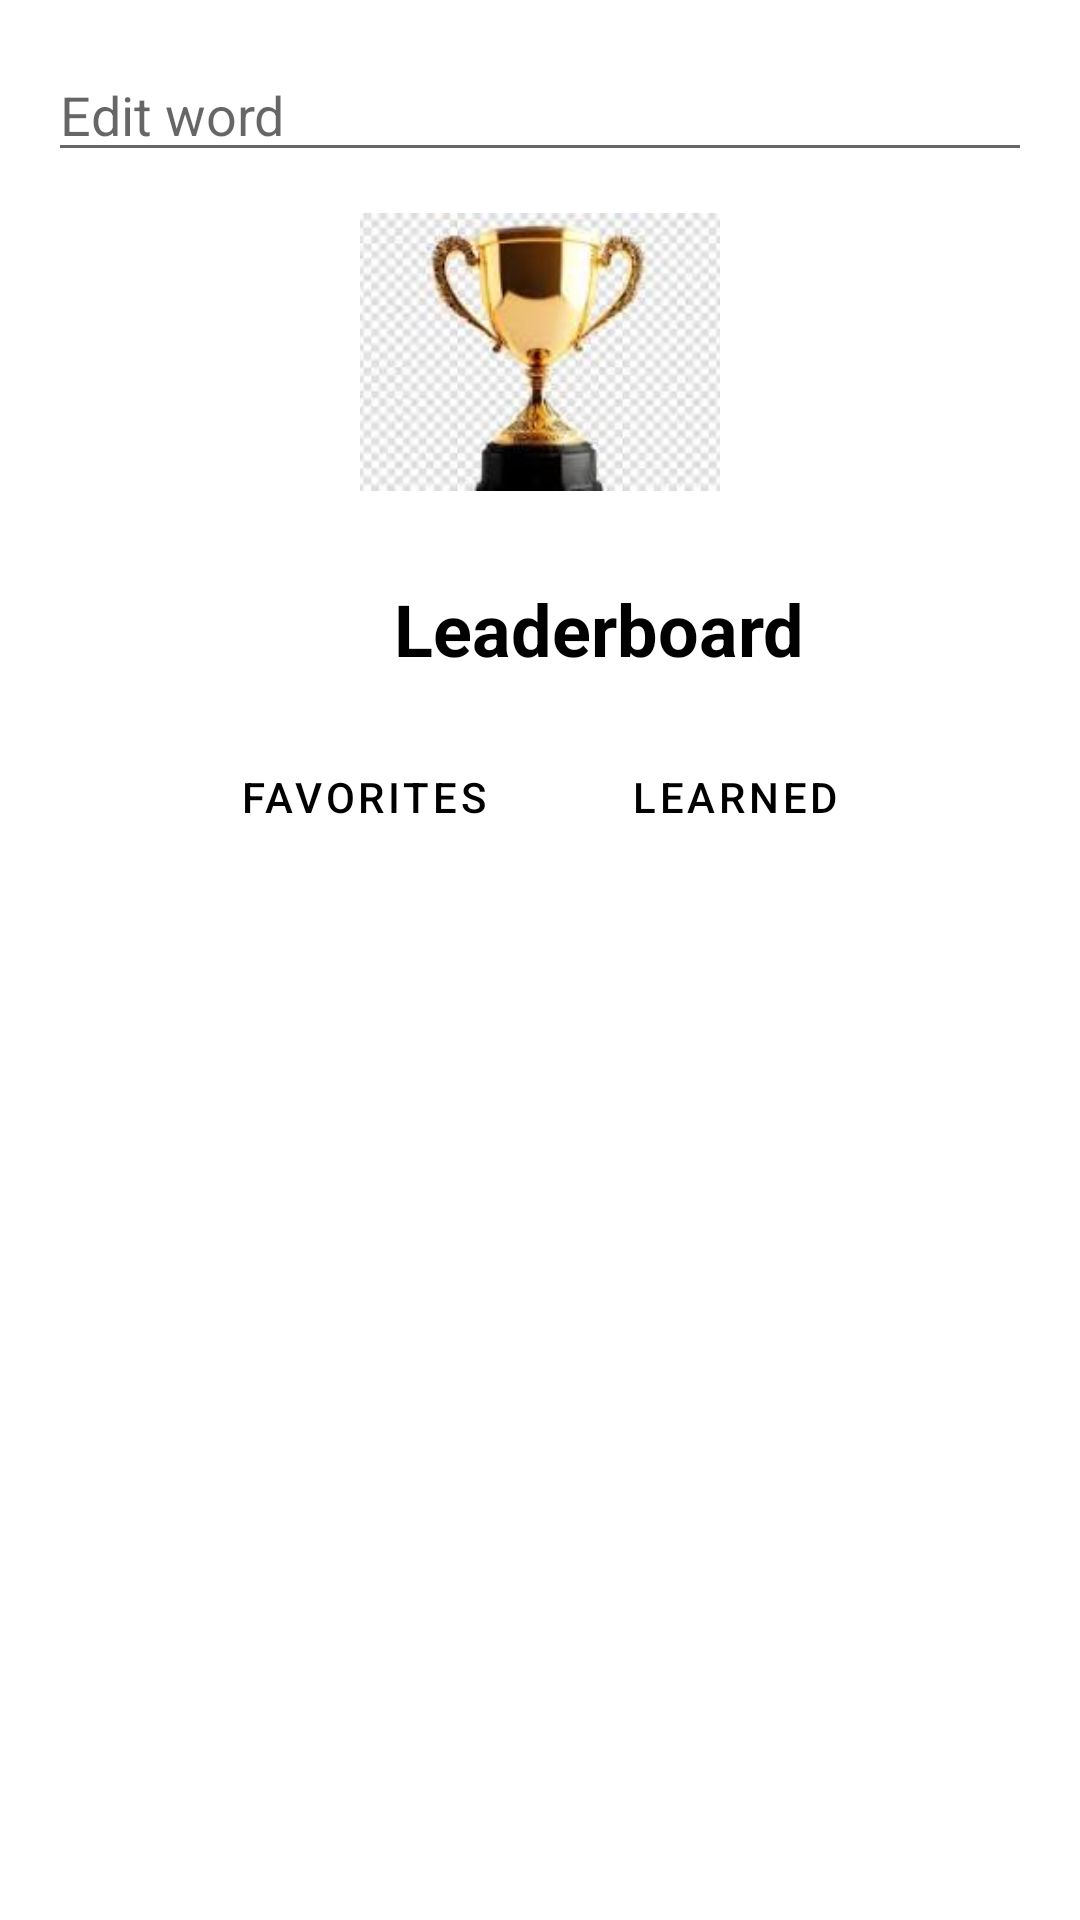

Point at icon controls on the screen. Image size 1080x1920, points as (x=x, y=y).
Trophy: (x=540, y=352)
